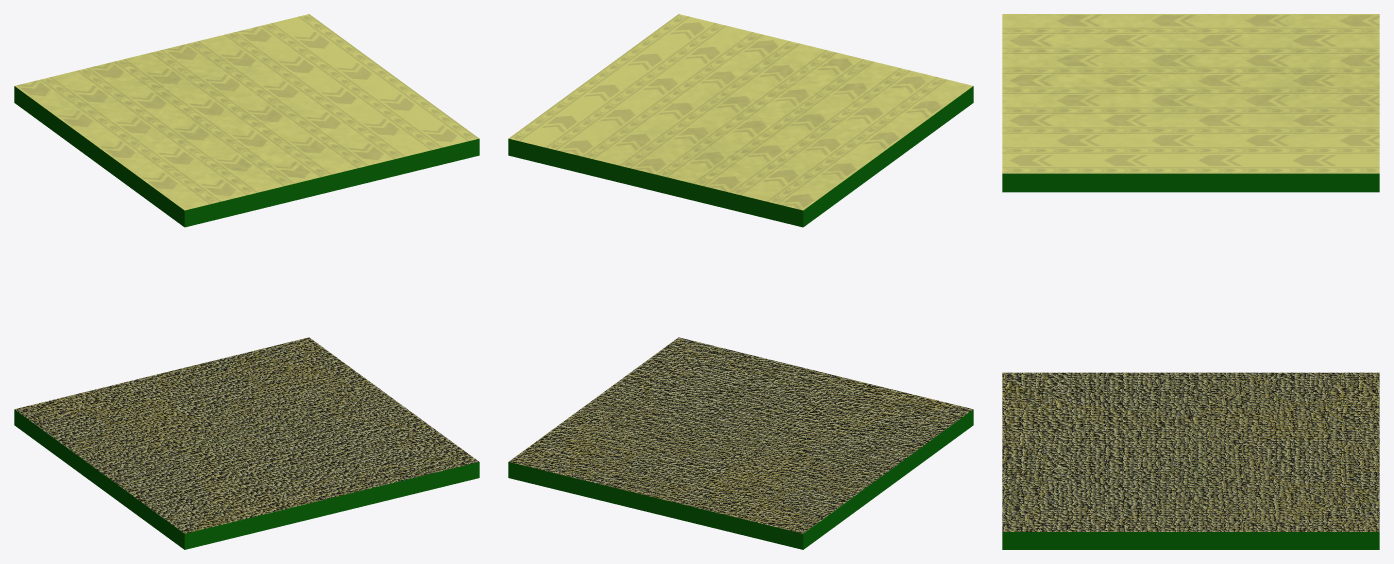
The model's file is level_0.glb.
3 renders of one model, left to right at view 1: azimuth 30°, elevation 25°; view 2: azimuth 150°, elevation 25°; view 3: azimuth 270°, elevation 25°, orthographic. The views are drawn at different scales.
Visible parts, largest first — view 1: base.001; view 2: base.001; view 3: base.001.
Part boxes in pixels (x1,y1,x2,y2): base.001: (14, 14, 479, 549); base.001: (508, 14, 973, 549); base.001: (1002, 14, 1379, 549).
Size of the model in its own units: 2 by 2.2 by 2.
3 materials, 2 textured.
